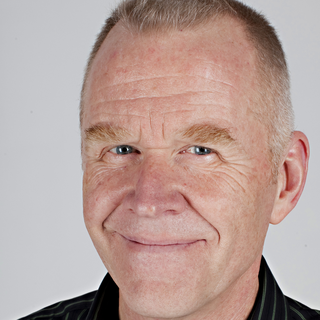eye: (173, 138, 221, 163), (98, 141, 143, 161)
